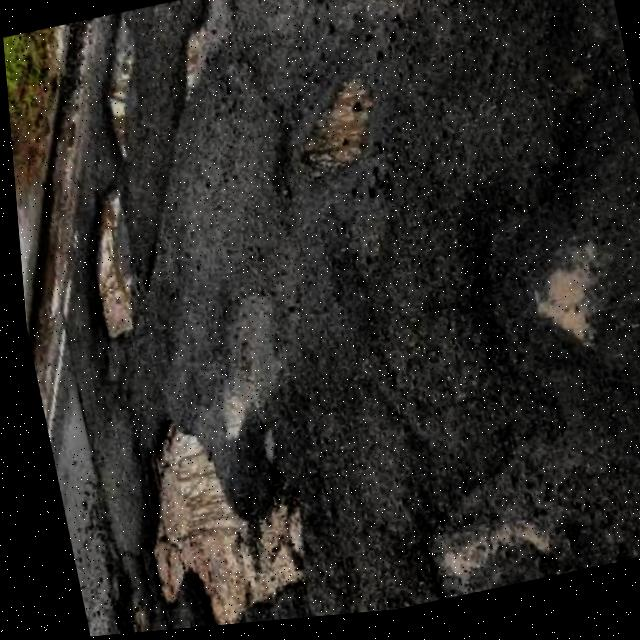Pothole: (99, 390, 311, 635), (388, 502, 550, 612), (60, 186, 145, 351), (76, 14, 153, 168), (280, 78, 383, 190), (86, 572, 135, 637)
